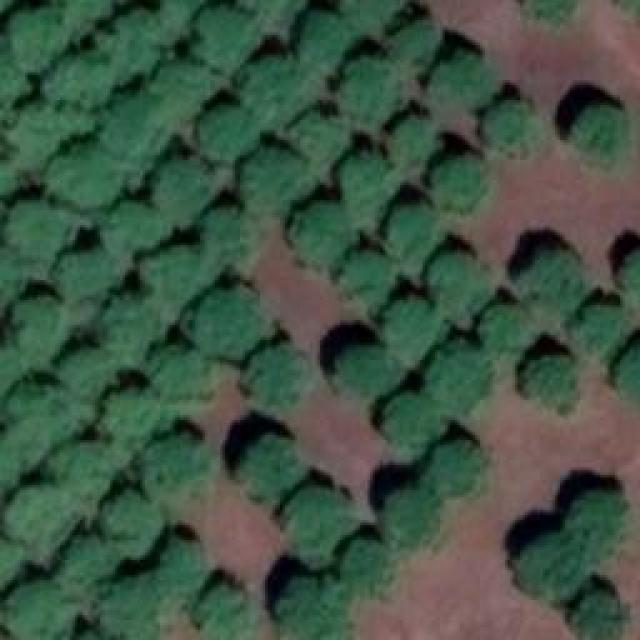Tree: (510, 525, 594, 597), (3, 195, 78, 274), (282, 195, 360, 269), (273, 483, 351, 555), (190, 293, 273, 360), (95, 93, 166, 168), (50, 440, 116, 519), (50, 144, 122, 216), (273, 570, 347, 640), (135, 427, 207, 497), (233, 433, 310, 498), (143, 58, 216, 126), (90, 575, 165, 640), (8, 293, 73, 368), (2, 384, 72, 452), (138, 243, 212, 307), (190, 0, 260, 66), (90, 12, 165, 72), (8, 485, 70, 557), (100, 485, 167, 551), (243, 145, 310, 210), (428, 345, 493, 412), (147, 155, 217, 216), (375, 378, 437, 446), (520, 250, 589, 311), (568, 488, 631, 554), (143, 340, 204, 406), (55, 347, 123, 406), (90, 293, 153, 356), (245, 348, 309, 410), (560, 102, 626, 162), (55, 248, 122, 307), (3, 578, 66, 640), (105, 198, 170, 258), (55, 535, 115, 599), (243, 53, 304, 115), (337, 48, 396, 112), (378, 197, 443, 255), (98, 390, 166, 445), (10, 108, 69, 171), (337, 533, 396, 595), (287, 8, 346, 70), (40, 54, 107, 108), (333, 248, 394, 307), (386, 483, 444, 545), (193, 102, 256, 159), (195, 582, 255, 640), (5, 5, 65, 62), (431, 250, 488, 308), (330, 341, 392, 394), (383, 304, 443, 358), (388, 110, 448, 163), (435, 54, 496, 106), (388, 10, 447, 63), (203, 210, 256, 269), (430, 148, 485, 204), (153, 532, 205, 591), (292, 115, 350, 167), (433, 435, 486, 490), (568, 585, 624, 637), (530, 355, 579, 414), (488, 103, 539, 156), (338, 158, 392, 208), (575, 303, 620, 354), (483, 297, 526, 344), (515, 0, 581, 24), (615, 348, 639, 395), (0, 250, 15, 318), (615, 250, 639, 292)
